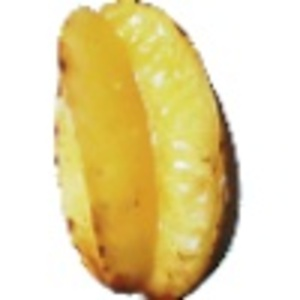carambola: (52, 1, 241, 300)
